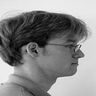ear: (23, 40, 44, 63)
